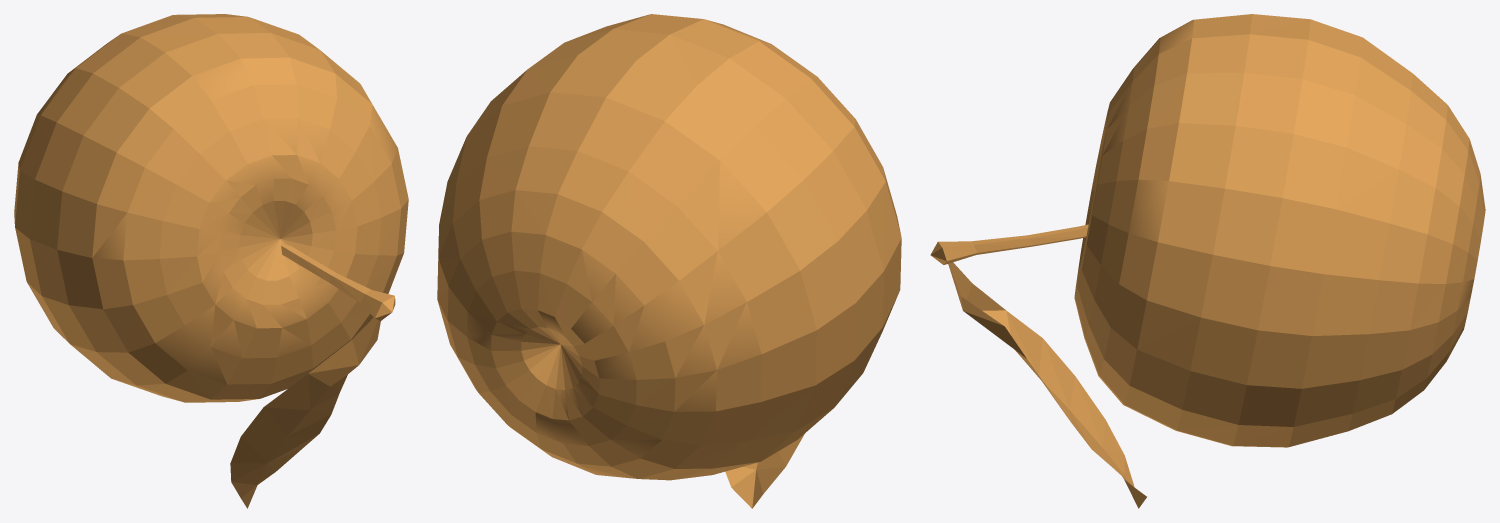
File: apple1_6.dae
3 views of the same model, side by side, from view 1: azimuth 30°, elevation 25°; view 2: azimuth 150°, elevation 25°; view 3: azimuth 270°, elevation 25° (orthographic). The views are drawn at different scales.
Visible parts, largest first — view 1: M002004_019; view 2: M002004_019; view 3: M002004_019.
Part boxes in pixels (left/top/right/bottom): M002004_019: left=14, top=14, right=408, bottom=508; M002004_019: left=437, top=14, right=901, bottom=508; M002004_019: left=930, top=14, right=1485, bottom=508.
Bounding box in the file's own units: 0.1 × 0.1266 × 0.1222.
